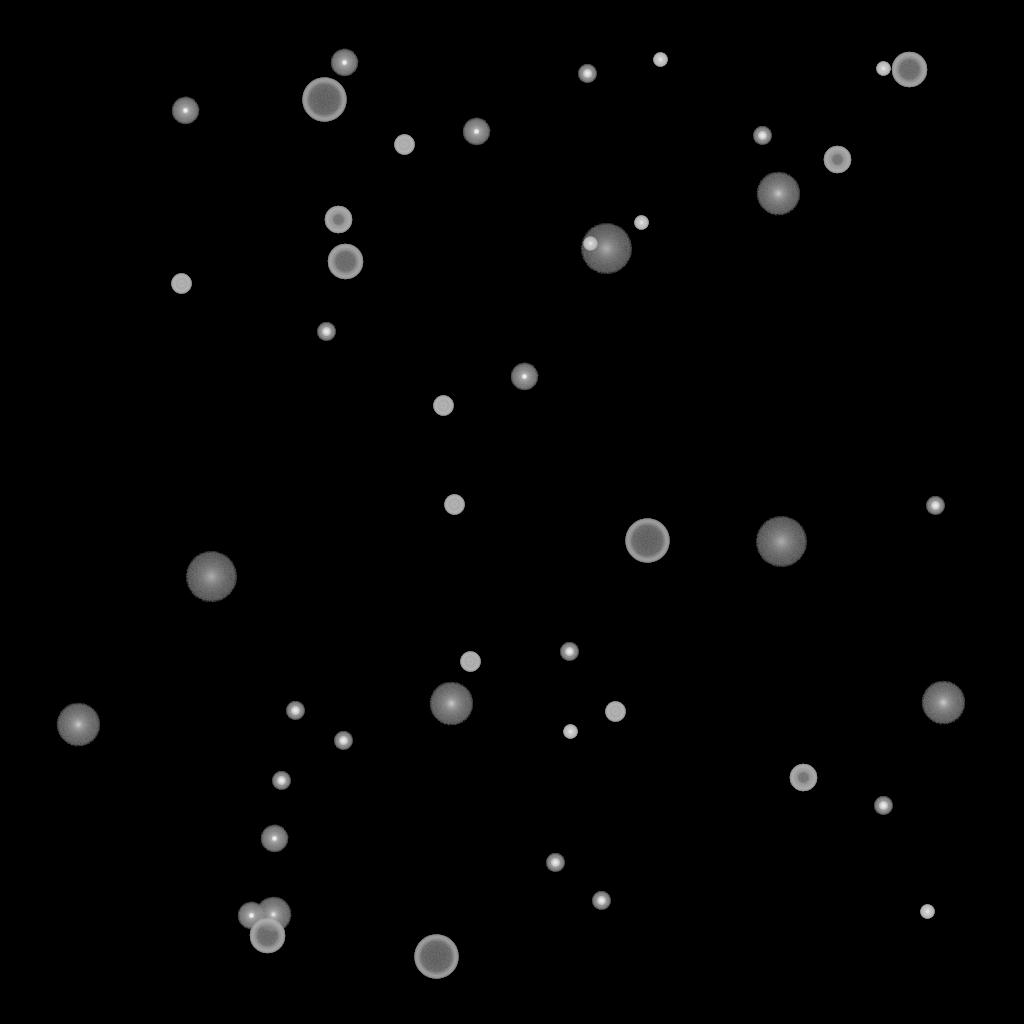depth:-10: (330, 49, 358, 77), (462, 118, 490, 146), (510, 363, 538, 391), (260, 825, 288, 853), (171, 97, 199, 125), (237, 902, 265, 930)
depth:-20: (334, 732, 352, 750), (578, 65, 596, 83), (317, 323, 335, 341), (546, 854, 564, 872), (560, 643, 578, 661), (874, 797, 892, 815), (926, 497, 944, 515), (286, 702, 304, 720), (592, 892, 610, 910), (753, 127, 771, 145), (272, 772, 290, 790)
depth:-30: (583, 237, 597, 251), (563, 725, 577, 739), (653, 53, 667, 67), (876, 62, 890, 76), (634, 216, 648, 230), (920, 905, 934, 919)
depth:-40: (460, 652, 480, 672), (605, 702, 625, 722), (394, 135, 414, 155), (444, 495, 464, 515), (171, 274, 191, 294), (433, 396, 453, 416)
depth:-50: (823, 146, 851, 174), (789, 764, 817, 792), (324, 206, 352, 234)
depth:-60: (327, 244, 363, 280), (249, 918, 285, 954), (891, 52, 927, 88)
depth:-70: (625, 519, 669, 563), (414, 935, 458, 979), (302, 78, 346, 122)
depth:0: (255, 897, 291, 933)
depth:10: (56, 703, 100, 747), (756, 172, 800, 216), (429, 682, 473, 726), (921, 681, 965, 725)
depth:20: (185, 552, 237, 602), (755, 517, 807, 567), (580, 224, 632, 274)
